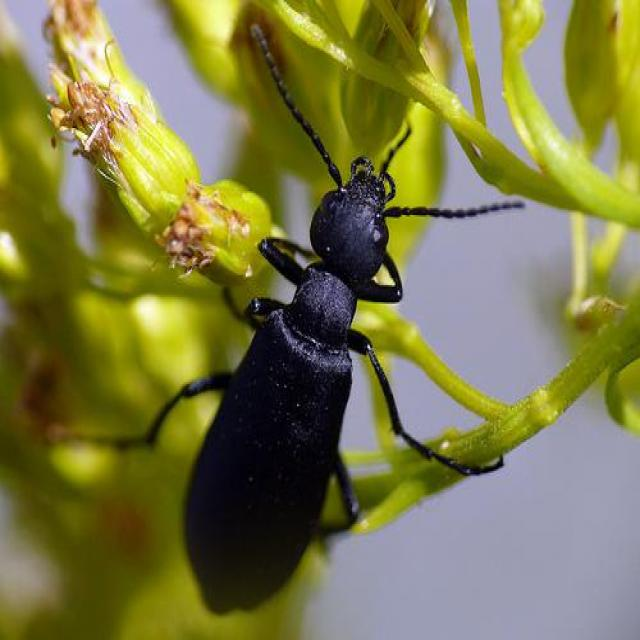BlisterBeetle-Adult-: (109, 19, 534, 622)
